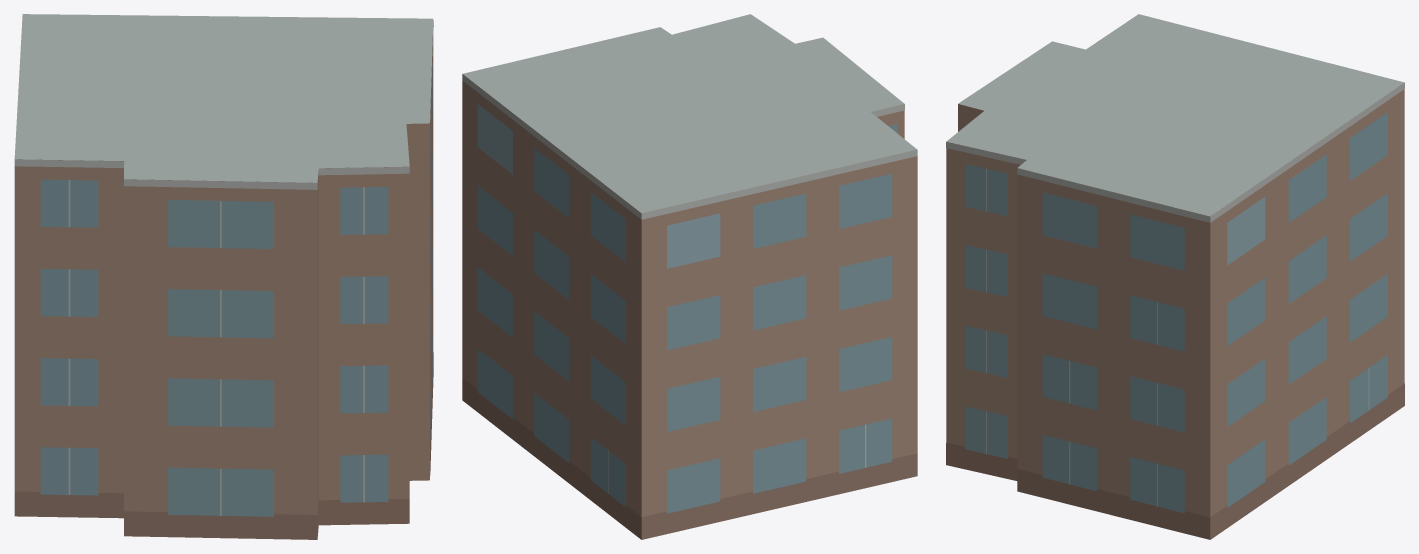
The model's file is survey-upis-32744112.glb.
3 renders of one model, left to right at view 1: azimuth 30°, elevation 25°; view 2: azimuth 150°, elevation 25°; view 3: azimuth 270°, elevation 25°, orthographic. The views are drawn at different scales.
Visible parts, largest first — view 1: survey-upis-32744112.tmp; view 2: survey-upis-32744112.tmp; view 3: survey-upis-32744112.tmp.
Boxes of the visible parts, left/top/right/bottom form: survey-upis-32744112.tmp: left=14, top=14, right=433, bottom=539; survey-upis-32744112.tmp: left=462, top=14, right=917, bottom=539; survey-upis-32744112.tmp: left=946, top=14, right=1404, bottom=539.
Size of the model in its own units: 16.67 by 12.4 by 15.95.
